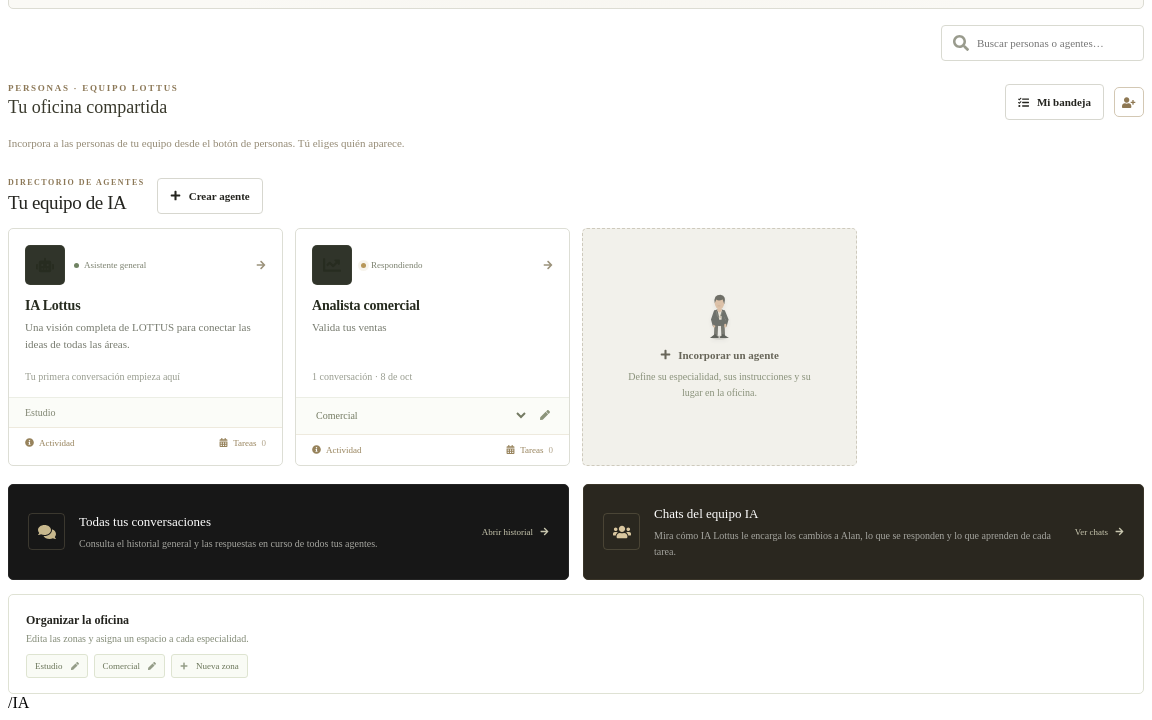
it: Oficina virtual LOTTUS › guarda una zona desde un diálogo y conserva el contexto de la oficina
(page scrolled)
Click the button "Nueva zona": (209, 666) [171,654,248,678]
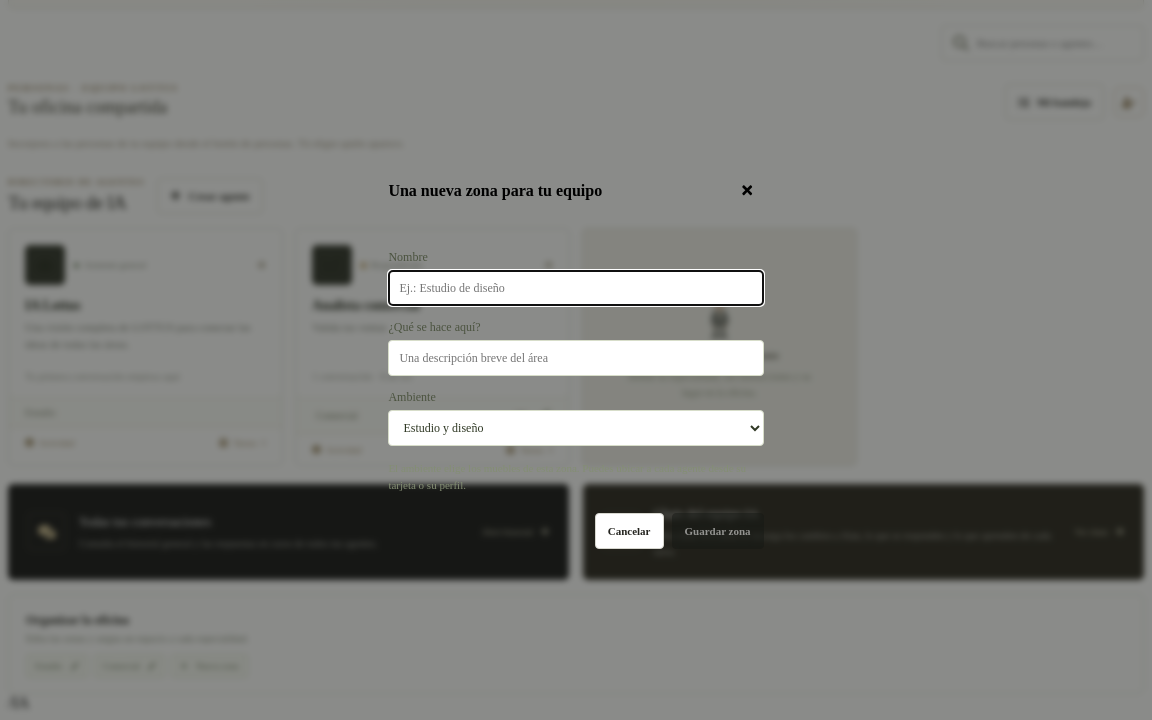
In the field labelled "Nombre": (576, 288) [388,270,764,306], type "Taller"
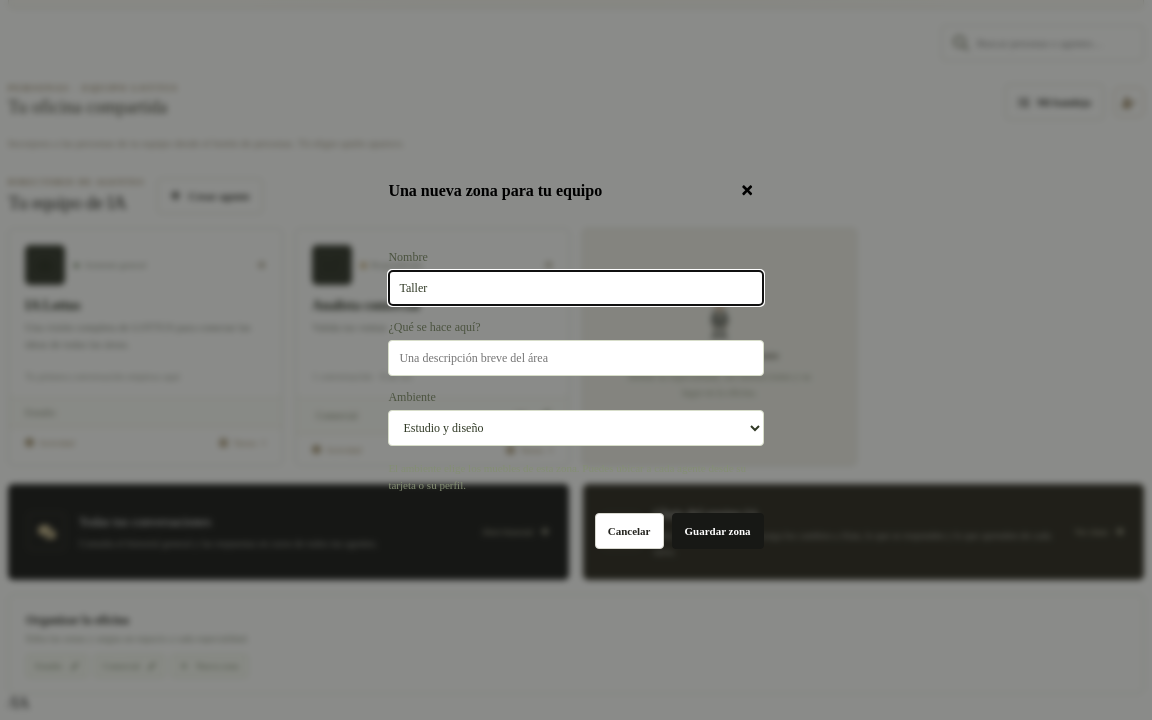
Click the button "Guardar zona": (718, 531) [672,513,764,549]
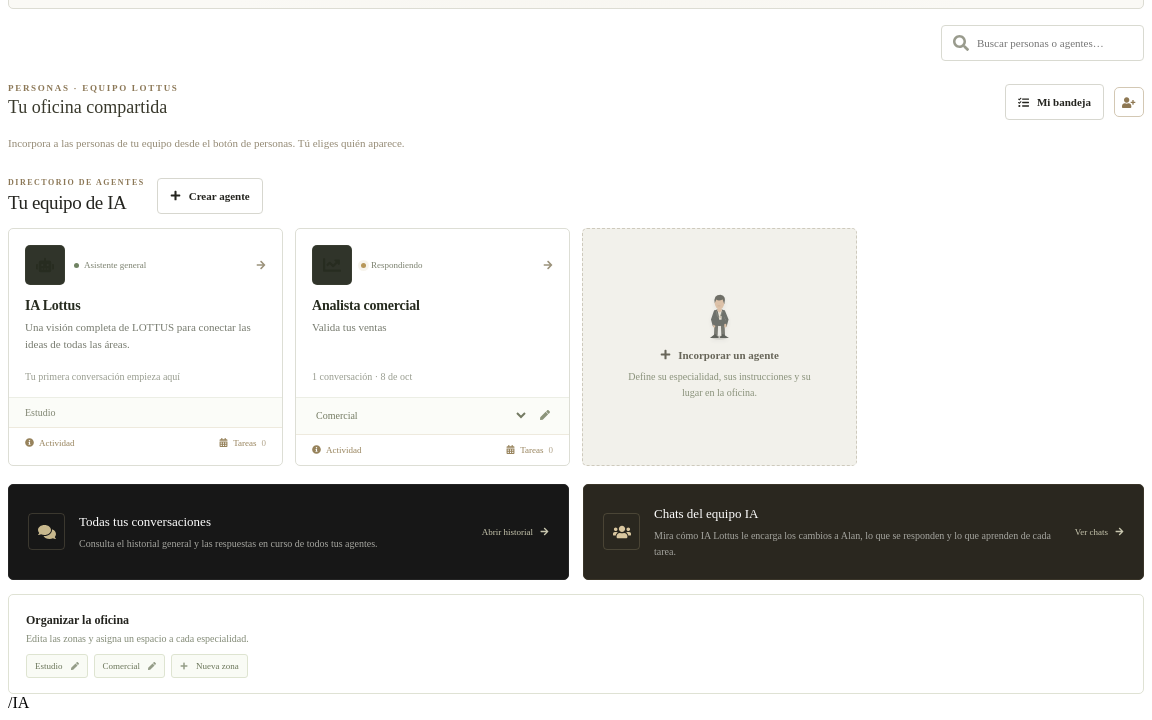
Check: the dialog is gone
